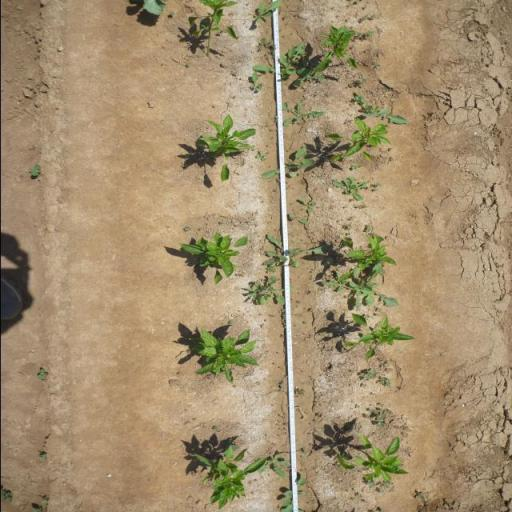plant: (183, 447, 269, 510), (193, 113, 257, 184), (186, 327, 261, 383), (175, 232, 249, 287), (332, 433, 412, 480), (339, 314, 417, 361), (186, 0, 242, 58), (338, 234, 398, 280), (326, 122, 392, 163), (311, 24, 358, 74)
weed: (319, 264, 400, 312), (260, 230, 330, 268), (248, 41, 304, 82), (350, 90, 408, 123), (262, 147, 316, 182), (244, 275, 295, 307), (281, 99, 326, 127), (293, 54, 327, 91), (256, 452, 291, 481), (278, 476, 306, 512), (330, 174, 364, 200), (253, 0, 281, 25), (297, 198, 317, 214), (248, 73, 264, 92), (286, 213, 308, 225), (358, 368, 376, 382), (0, 487, 14, 501), (35, 368, 49, 382), (376, 402, 392, 414), (374, 414, 387, 428), (349, 78, 365, 88), (224, 438, 240, 448), (254, 150, 266, 163), (377, 377, 391, 388), (254, 38, 266, 50), (28, 165, 41, 176), (292, 388, 306, 398), (280, 308, 286, 327), (380, 480, 394, 488), (266, 263, 276, 274), (38, 494, 49, 504), (363, 480, 376, 488), (269, 43, 275, 60), (370, 60, 380, 70), (414, 490, 424, 500), (37, 452, 48, 461), (363, 30, 375, 38), (354, 204, 369, 210), (358, 15, 368, 23), (364, 224, 372, 234), (278, 381, 284, 392), (248, 144, 256, 152), (351, 164, 361, 170), (380, 362, 390, 368), (371, 182, 380, 188), (354, 32, 362, 38), (167, 11, 175, 17), (376, 488, 384, 494), (348, 214, 354, 221), (235, 272, 242, 278), (363, 314, 370, 320), (212, 425, 218, 432), (375, 342, 383, 347), (350, 468, 360, 472), (184, 226, 190, 232), (307, 308, 313, 314), (368, 408, 374, 414), (343, 224, 351, 228), (356, 494, 364, 498), (364, 414, 370, 419), (350, 496, 355, 502), (302, 449, 306, 456), (372, 188, 378, 192), (377, 306, 381, 312), (335, 466, 342, 469), (227, 320, 232, 324), (361, 384, 366, 388), (355, 405, 360, 409), (349, 198, 354, 201), (196, 228, 202, 230), (218, 222, 223, 224), (398, 388, 403, 390), (376, 313, 378, 315)
